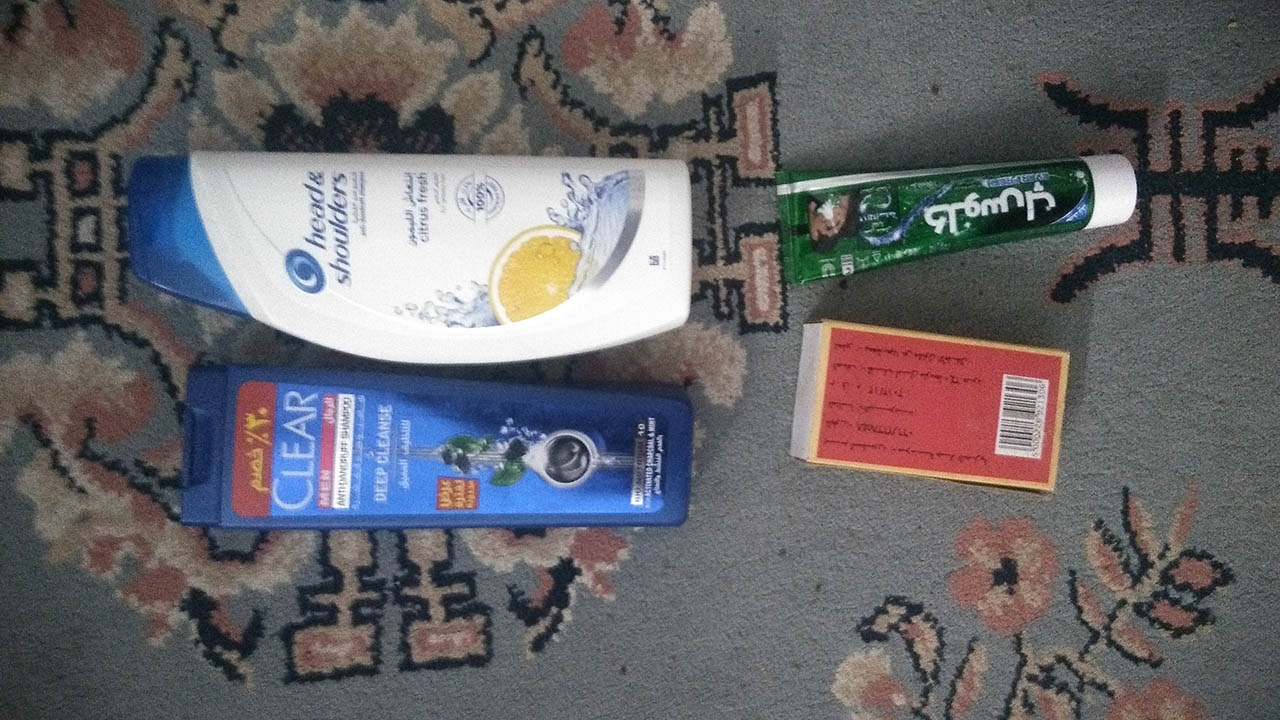Shampoo-Clear 4.7$: (169, 355, 698, 534)
Toothpaste-Closeup 3.04$: (758, 109, 1154, 301)
match-sticks .90$: (777, 332, 1102, 491)
shampoo-Lemon 3.5$: (101, 134, 696, 361)
